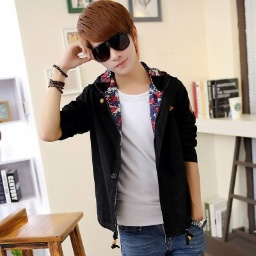face: (77, 1, 144, 74)
